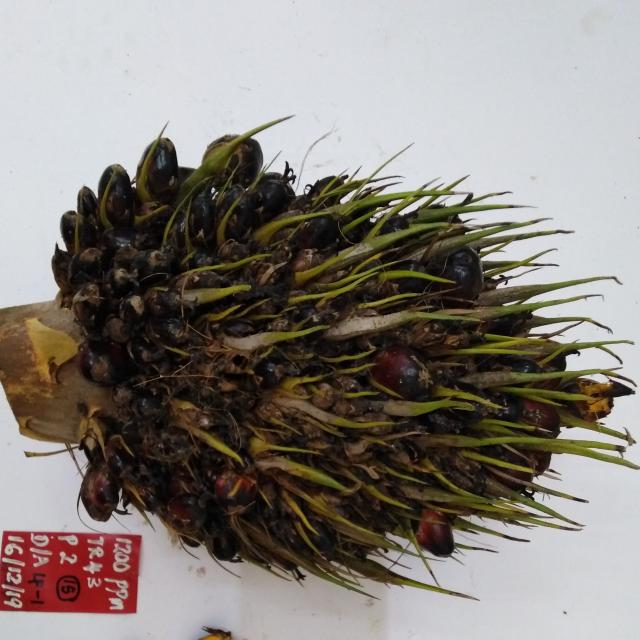FFB: (56, 141, 614, 565)
